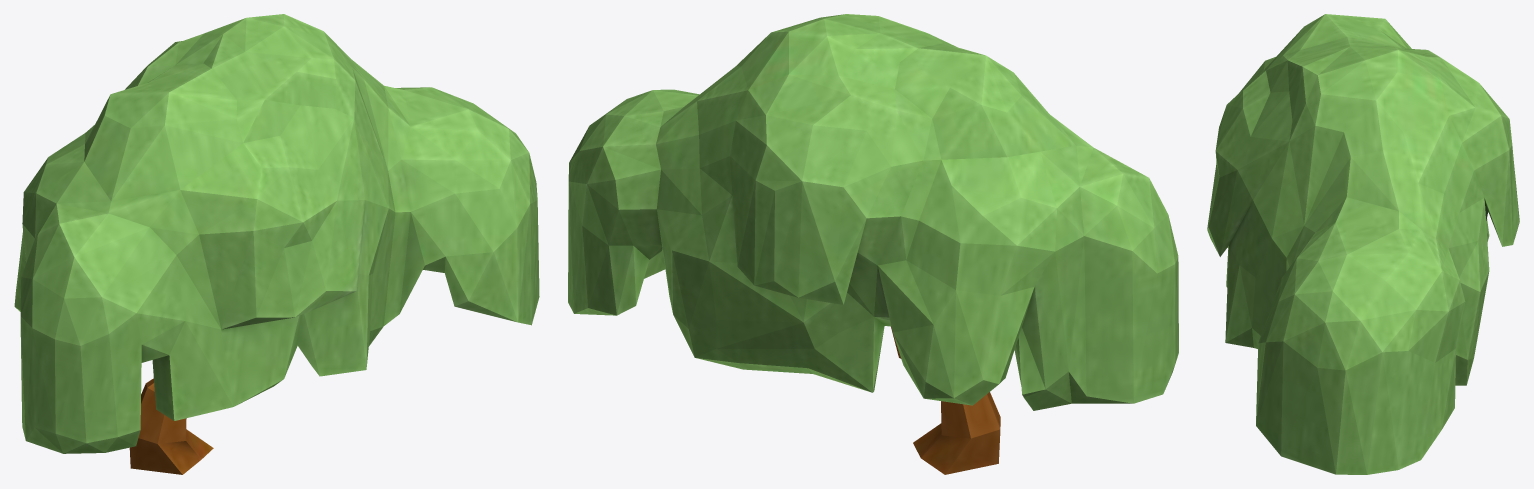
File: sogut.glb
3 renders of one model, left to right at view 1: azimuth 30°, elevation 25°; view 2: azimuth 150°, elevation 25°; view 3: azimuth 270°, elevation 25°, orthographic. The views are drawn at different scales.
Visible parts, largest first — view 1: WeepingWillowTree_mesh; view 2: WeepingWillowTree_mesh; view 3: WeepingWillowTree_mesh.
Part boxes in pixels (box(x1,y1,x2,y2)): WeepingWillowTree_mesh: box(14, 14, 539, 474); WeepingWillowTree_mesh: box(568, 14, 1178, 474); WeepingWillowTree_mesh: box(1207, 14, 1519, 474).
Bounding box in the file's own units: 10.97 × 7.76 × 5.8.
1 material, 1 textured.
